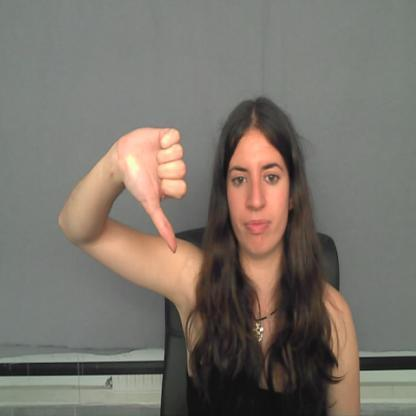thumbs-down: (114, 121, 194, 258)
